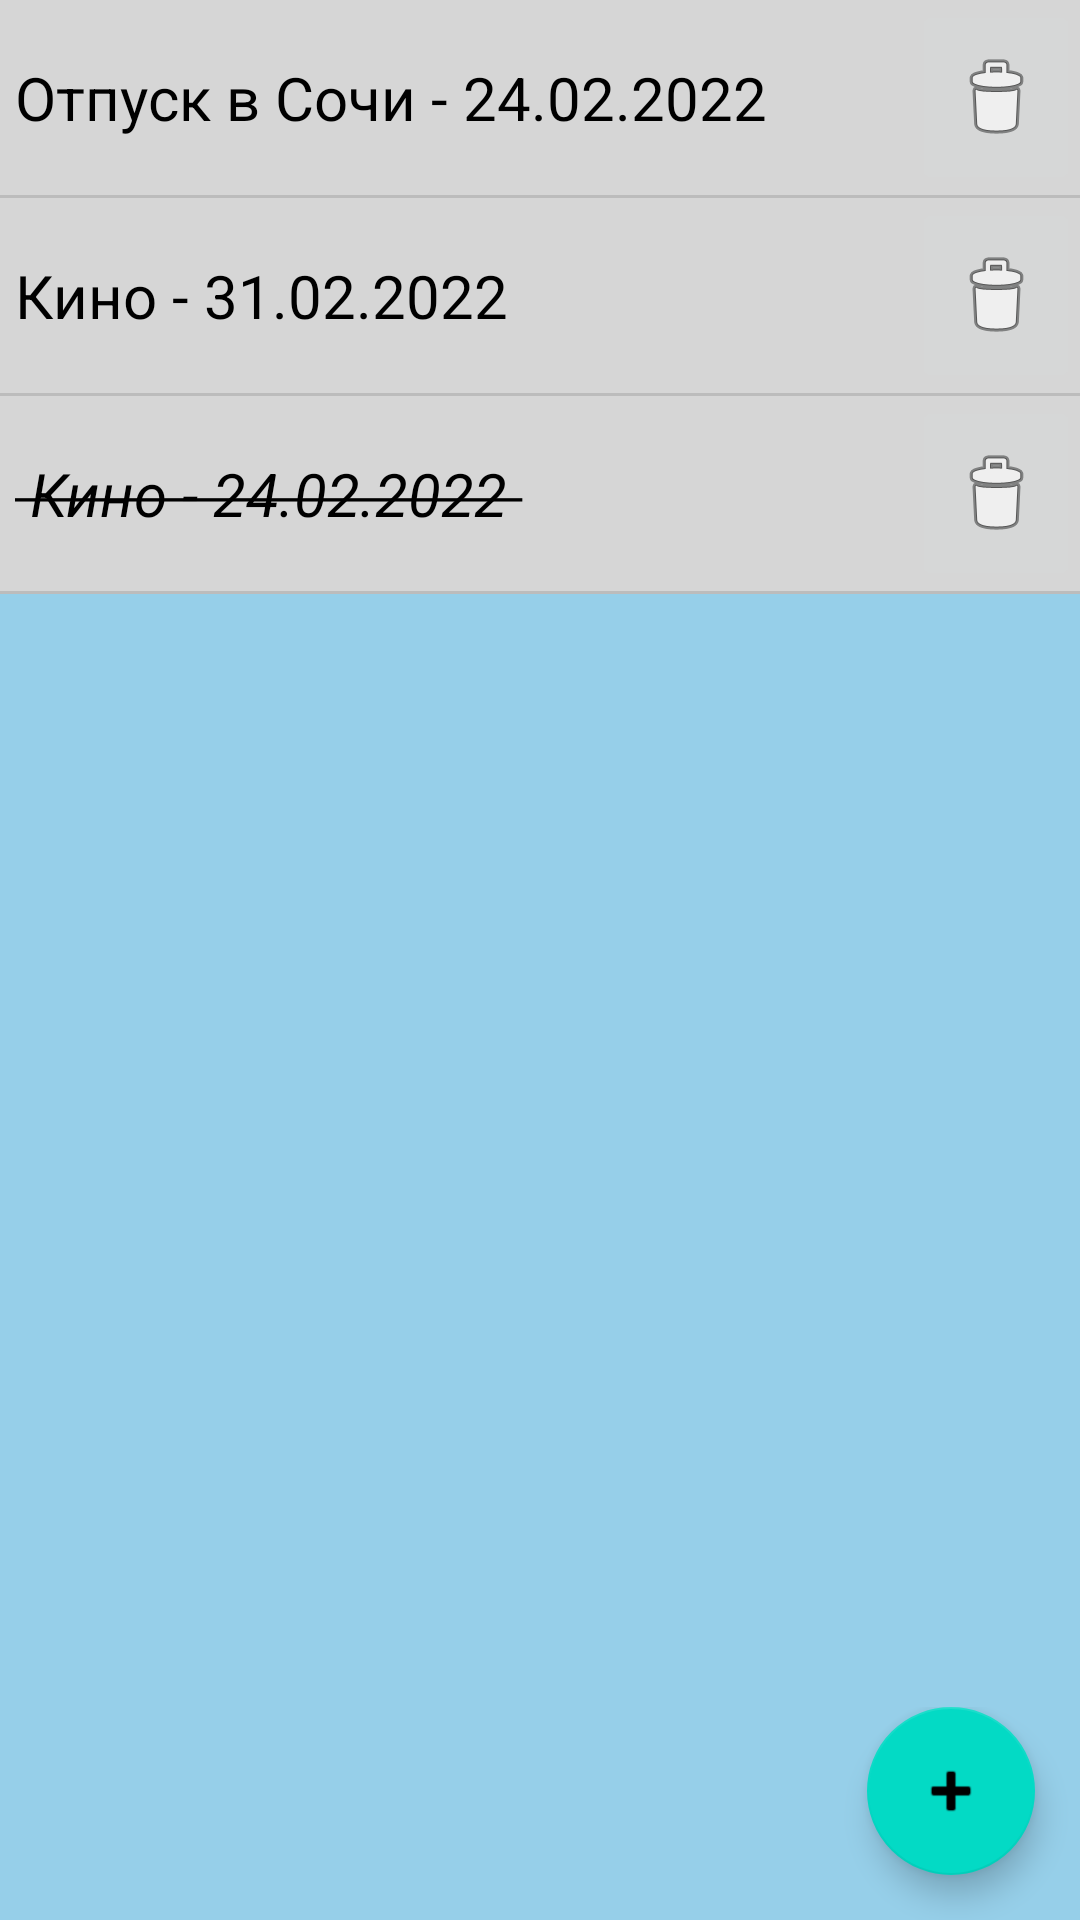

Where icons sit on this 1080w x 1920h app screen, as (x1=x1, y1=y1, x2=x2, y2=y2):
add: (x1=867, y1=1707, x2=1035, y2=1875)
delete: (x1=969, y1=59, x2=1024, y2=134), (x1=969, y1=257, x2=1024, y2=332), (x1=969, y1=455, x2=1024, y2=530)
